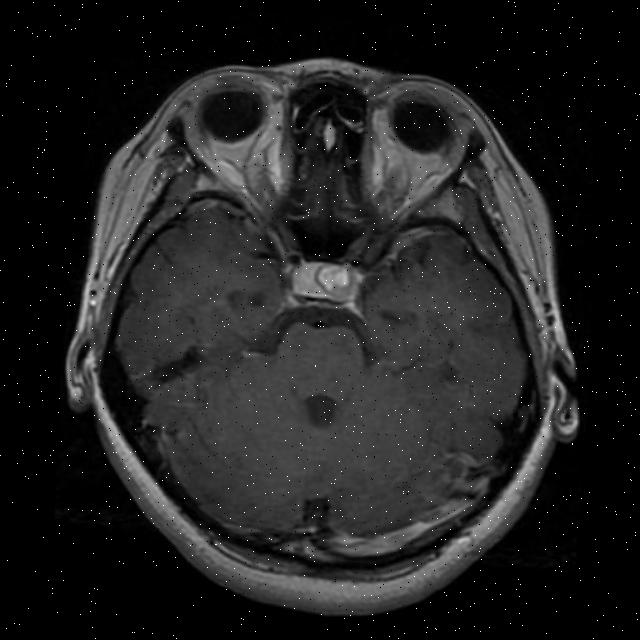Pituitary: (289, 256, 363, 304)
